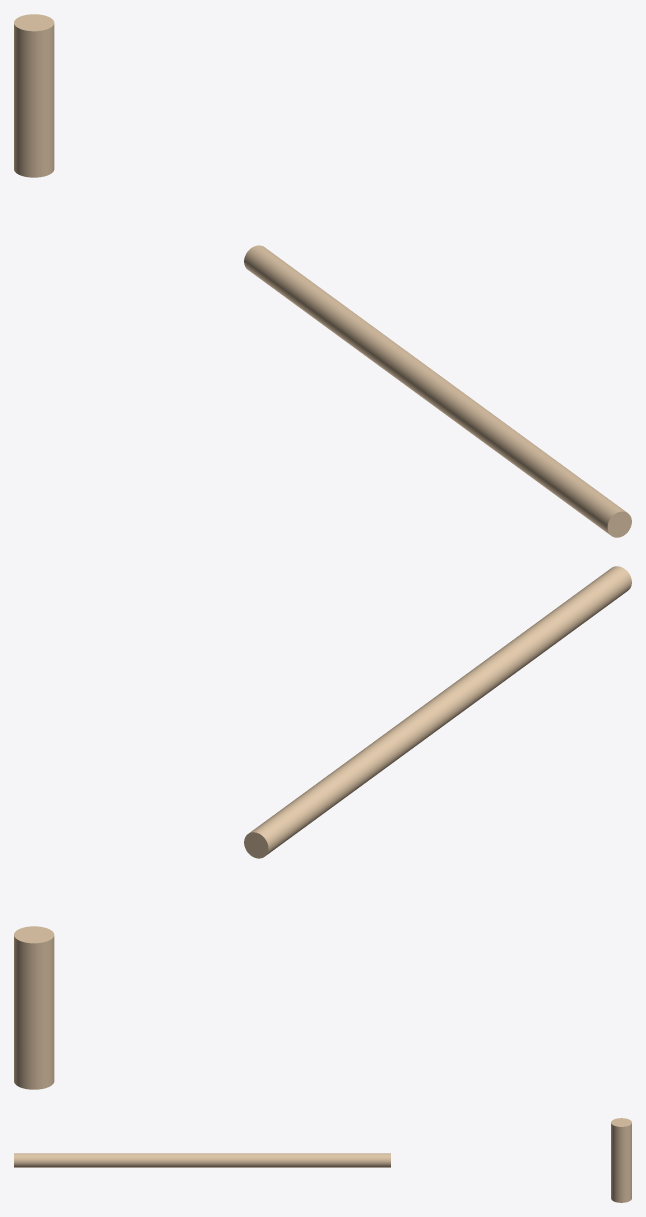
The model's file is townlets.gltf.
3 views of the same model, one above another, from view 1: azimuth 30°, elevation 25°; view 2: azimuth 150°, elevation 25°; view 3: azimuth 270°, elevation 25° (orthographic). The views are drawn at different scales.
Visible parts, largest first — view 1: Bat, Townlet; view 2: Bat, Townlet; view 3: Bat, Townlet.
Boxes of the visible parts, x1,y1,x2,y2 form: Bat: (244, 245, 631, 537); Townlet: (14, 14, 54, 177); Bat: (244, 566, 631, 858); Townlet: (14, 926, 54, 1089); Bat: (14, 1153, 390, 1167); Townlet: (611, 1118, 631, 1202).
Size of the model in its own units: 0.05 by 0.2 by 1.47.
